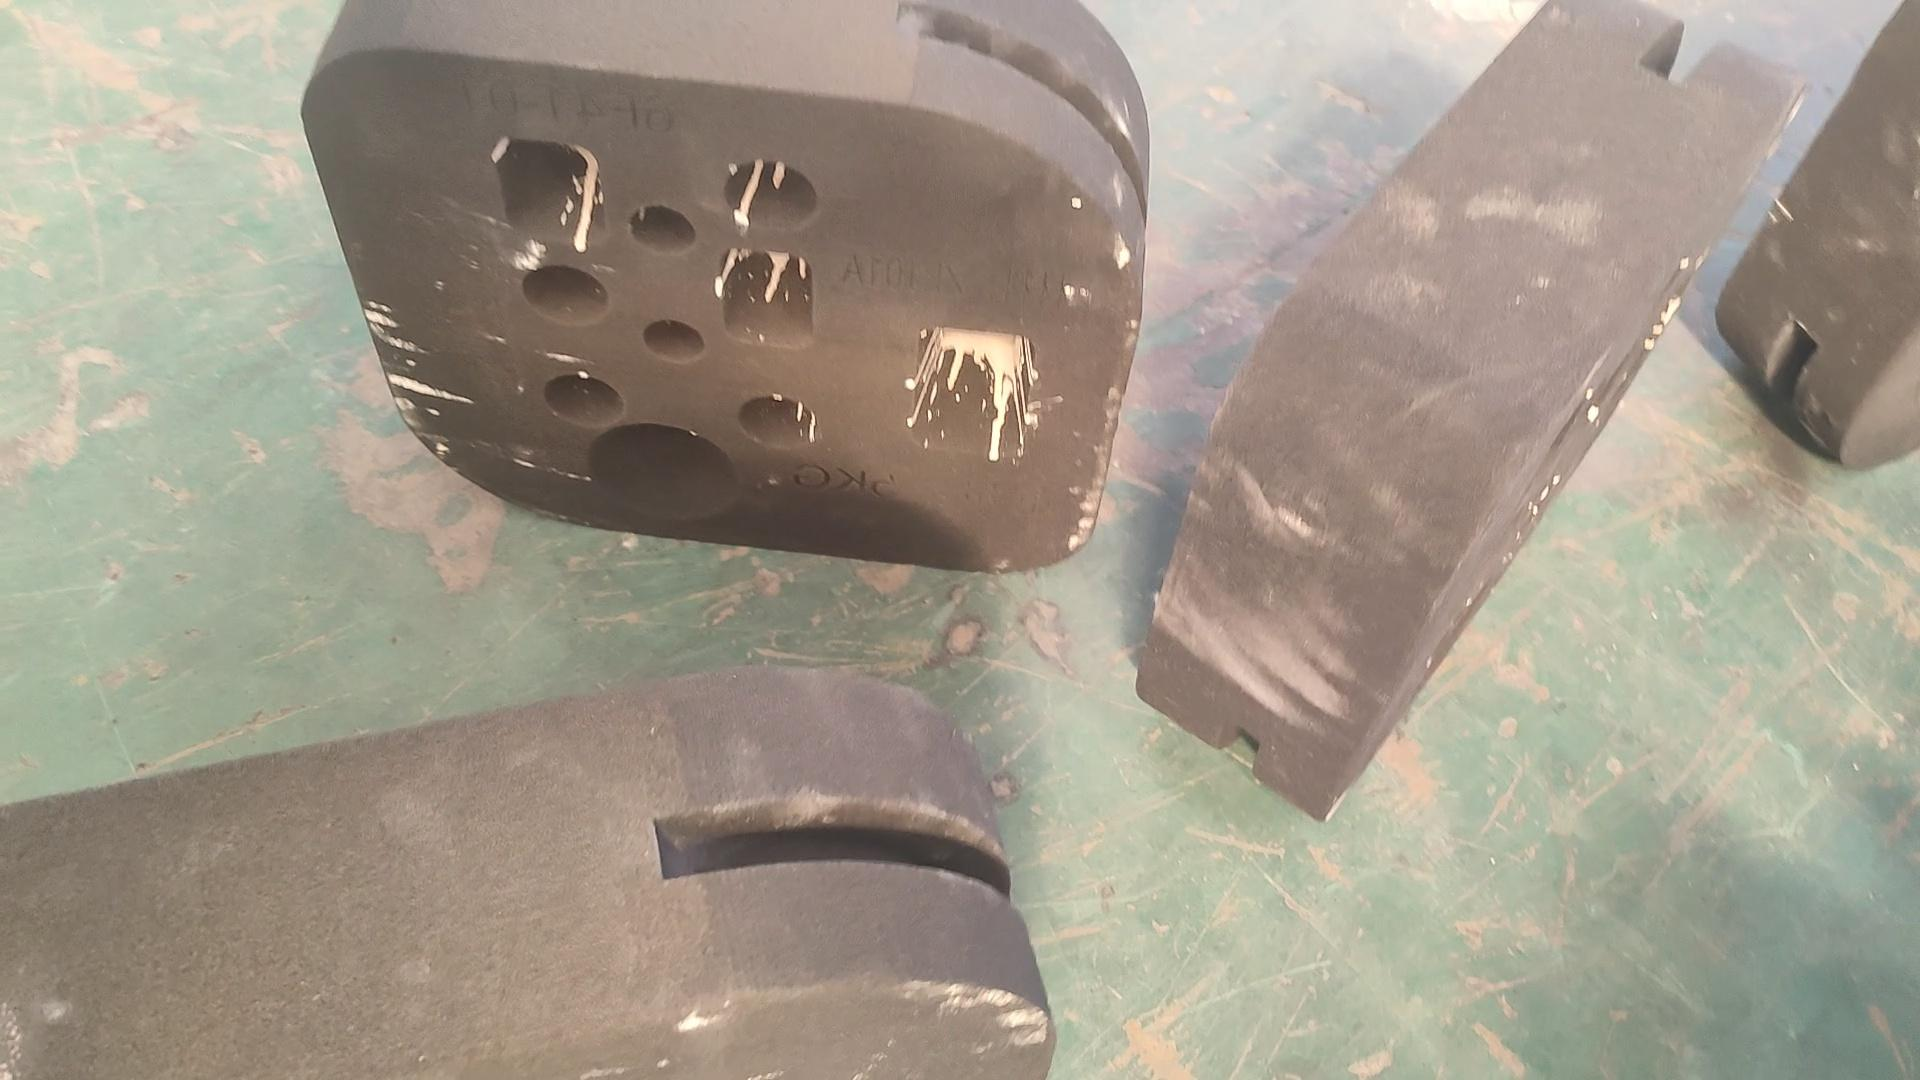pouring hole: (585, 425, 740, 525)
